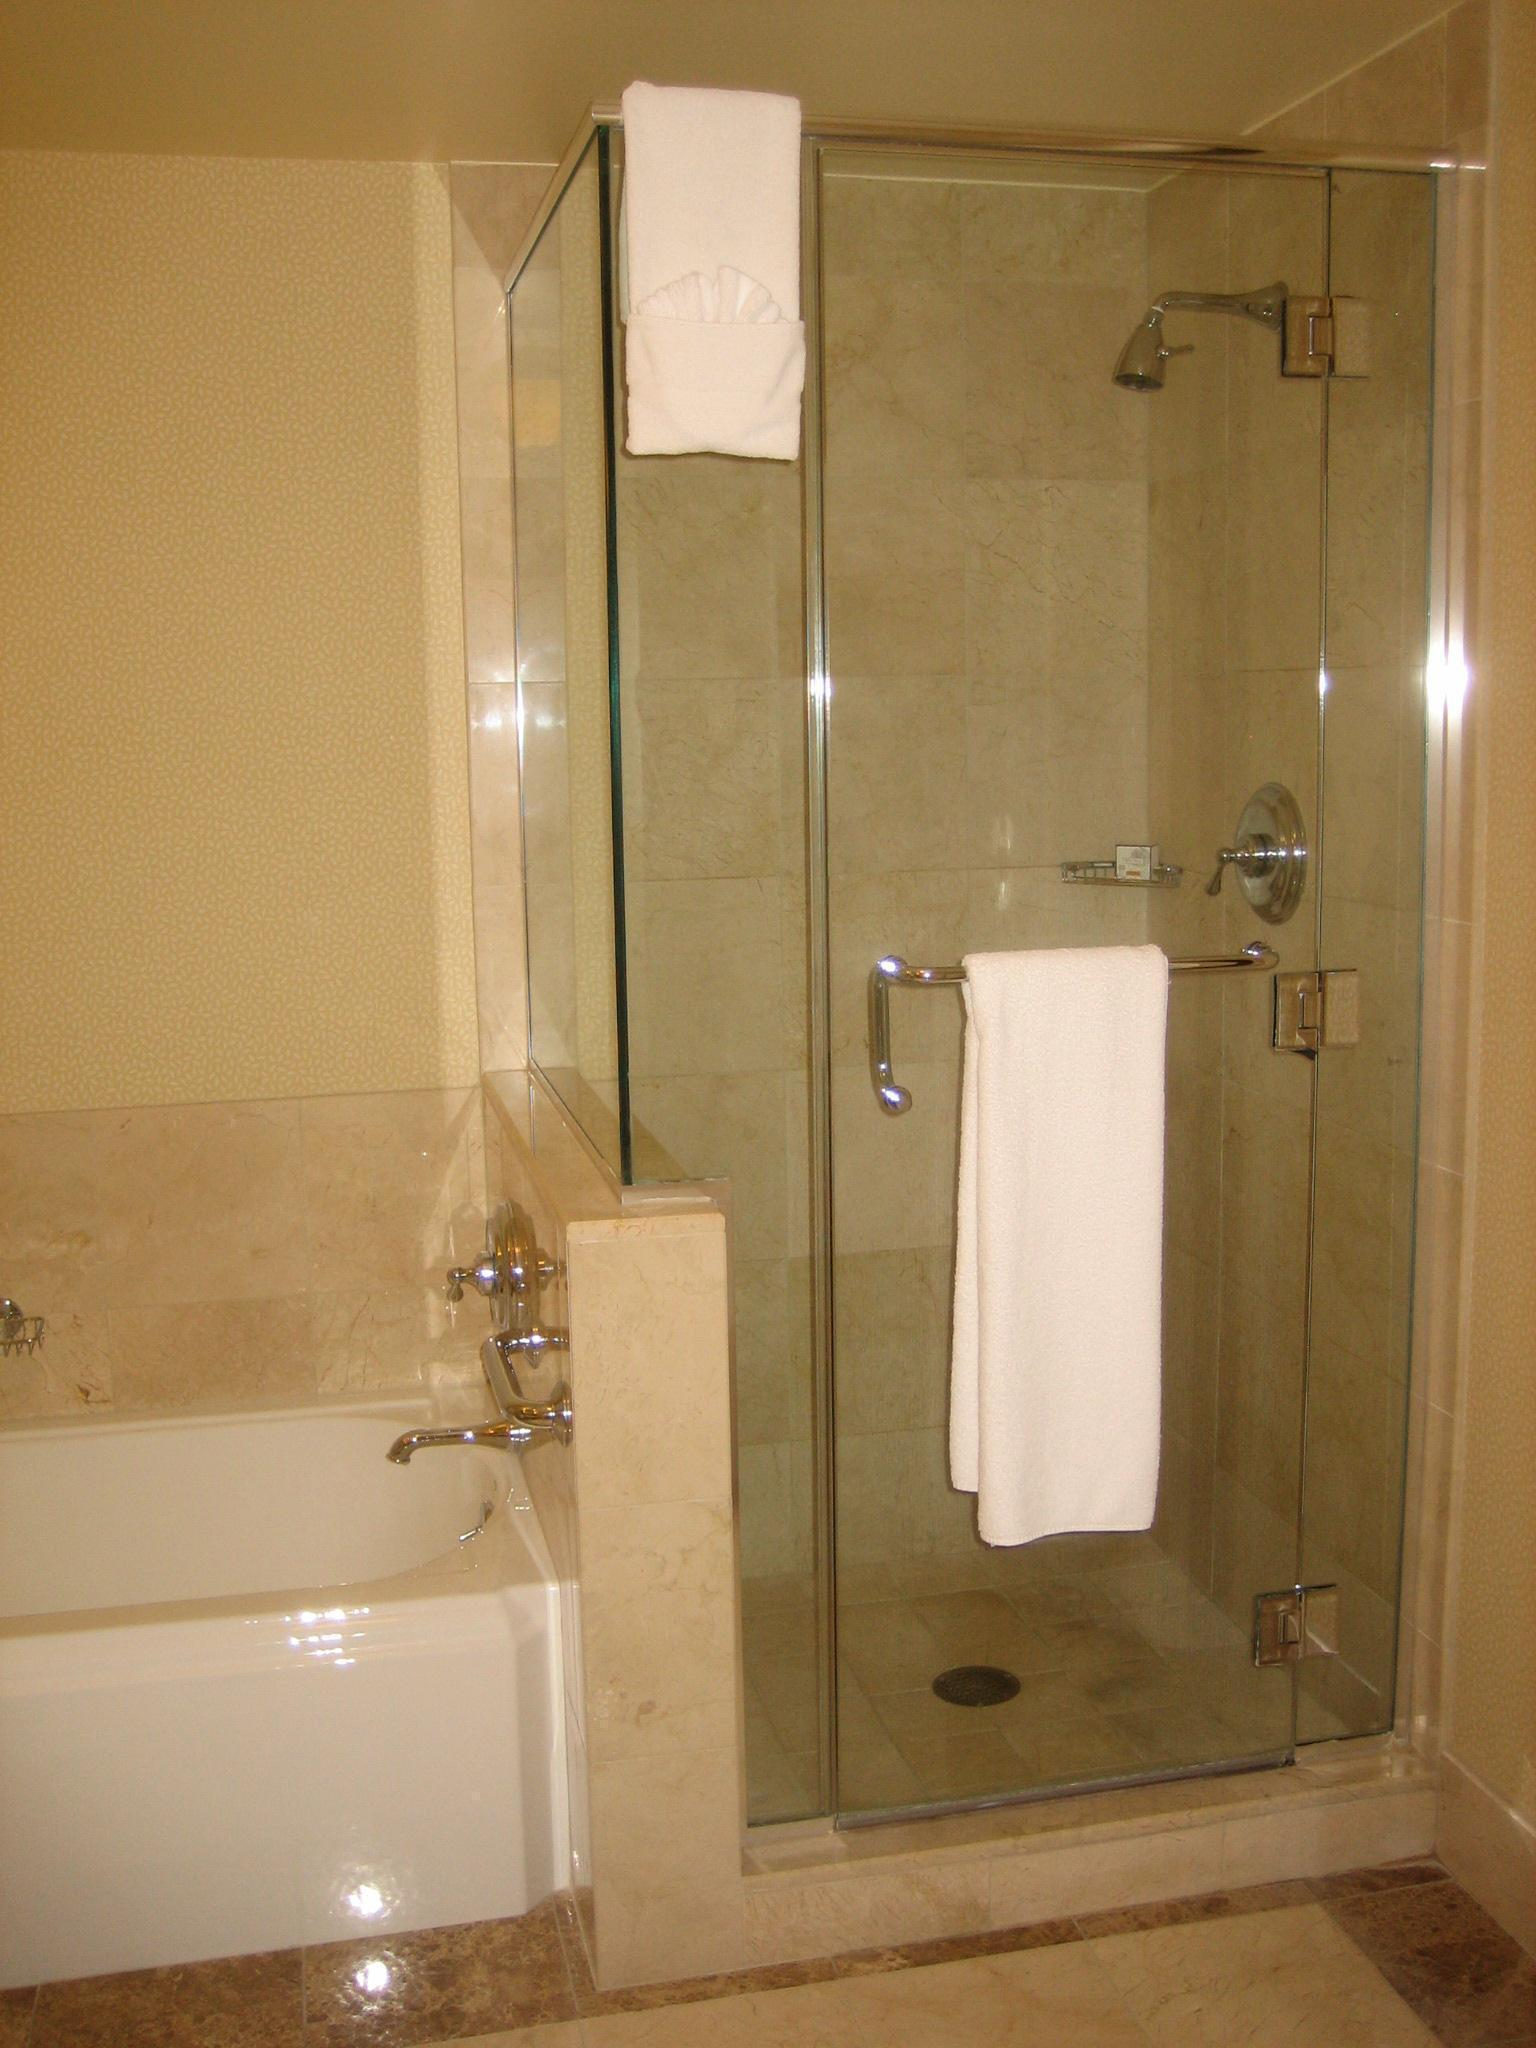Ducha: (595, 126, 1442, 1869)
